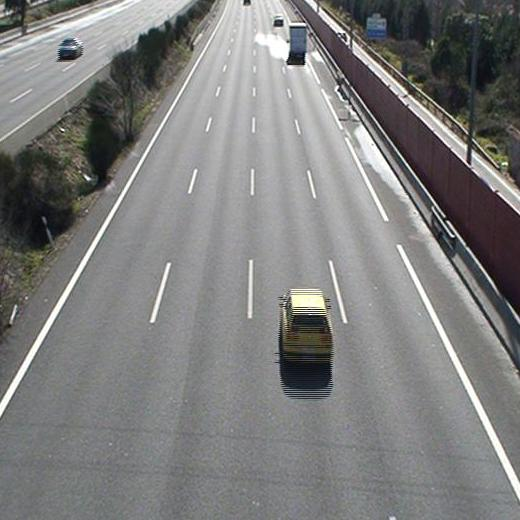car: (278, 287, 333, 370), (273, 14, 283, 26)
small-truck: (287, 23, 308, 64)
